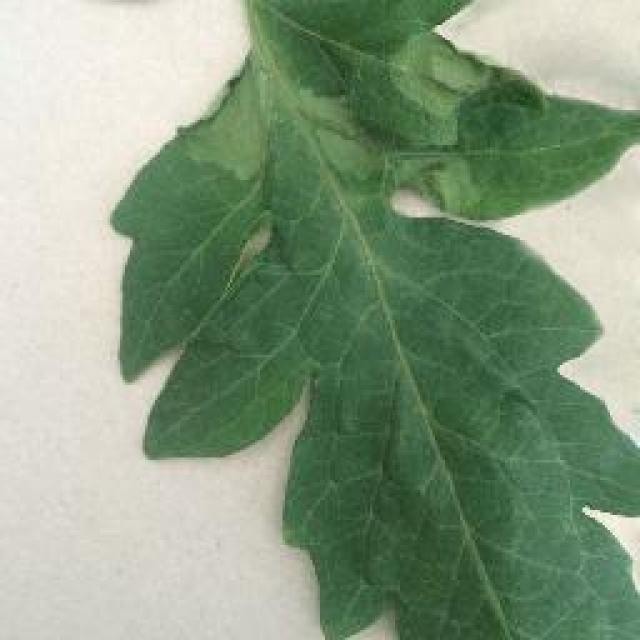Tomato Late Blight: (180, 83, 427, 332)
